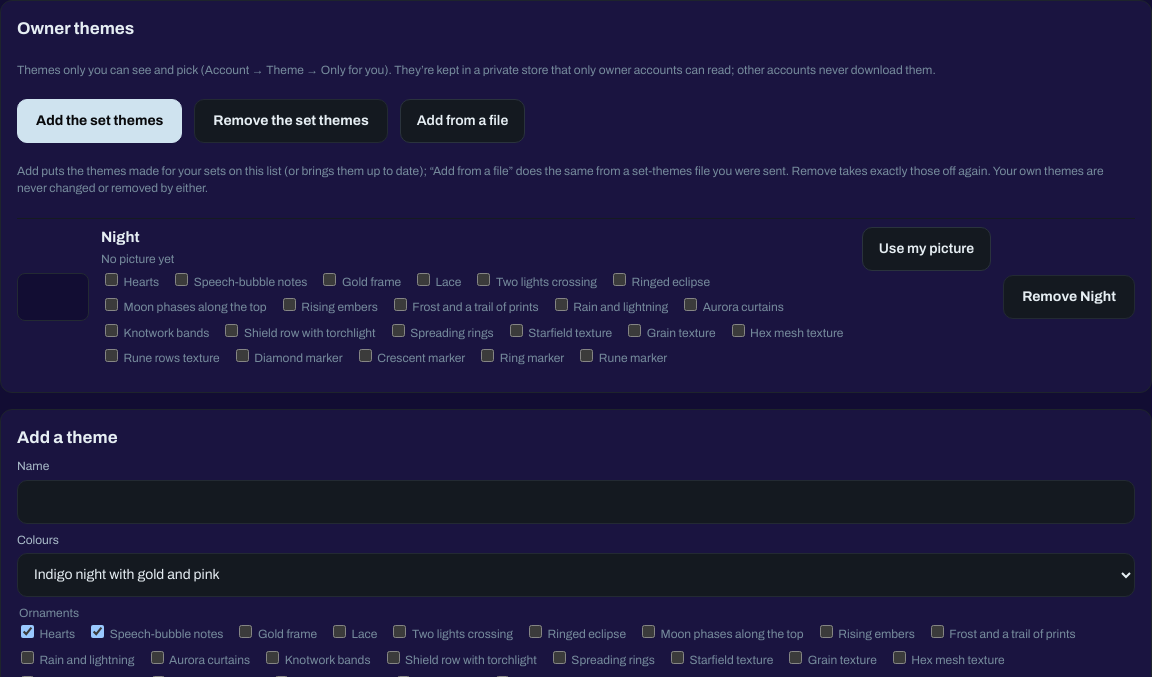
Test case: owner-only themes in the app (T47) › removing the theme you wear with nothing before it goes back to Glacier
The image size is (1152, 677).
Click the button "Remove Night": (1069, 297) [1003,275,1135,319]
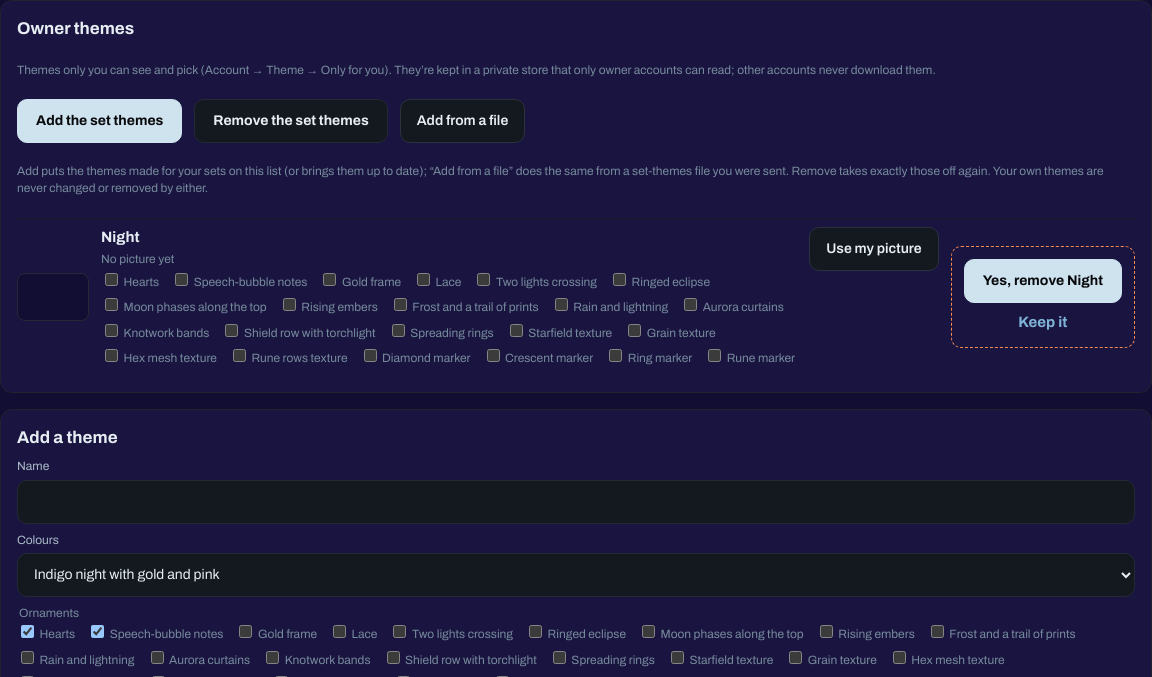
Click the button "Yes, remove Night": (1043, 281) [964,259,1122,303]
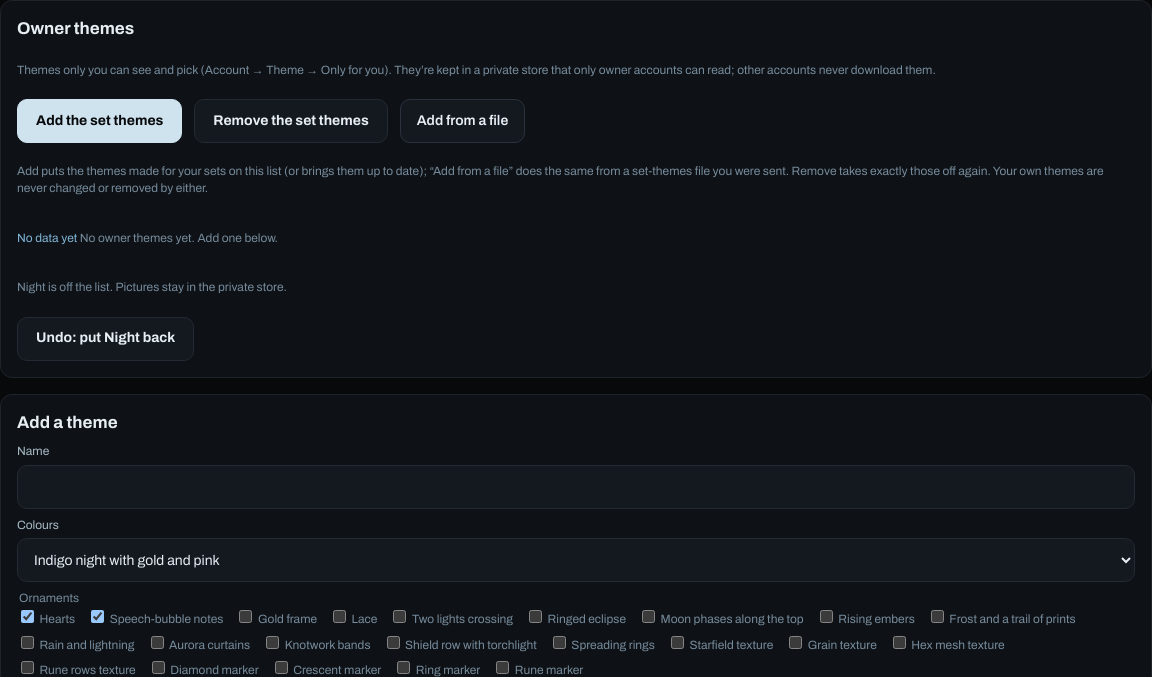
Check: the text "Night is off the list. Pictures stay in the private store." is shown, box [17,280,287,294]
